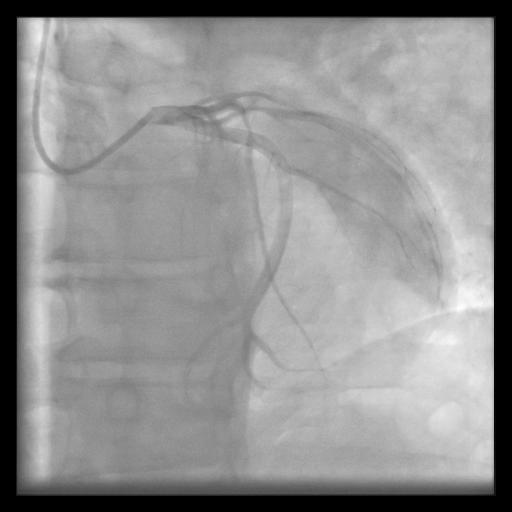Stenosis: (235, 110, 255, 139)
